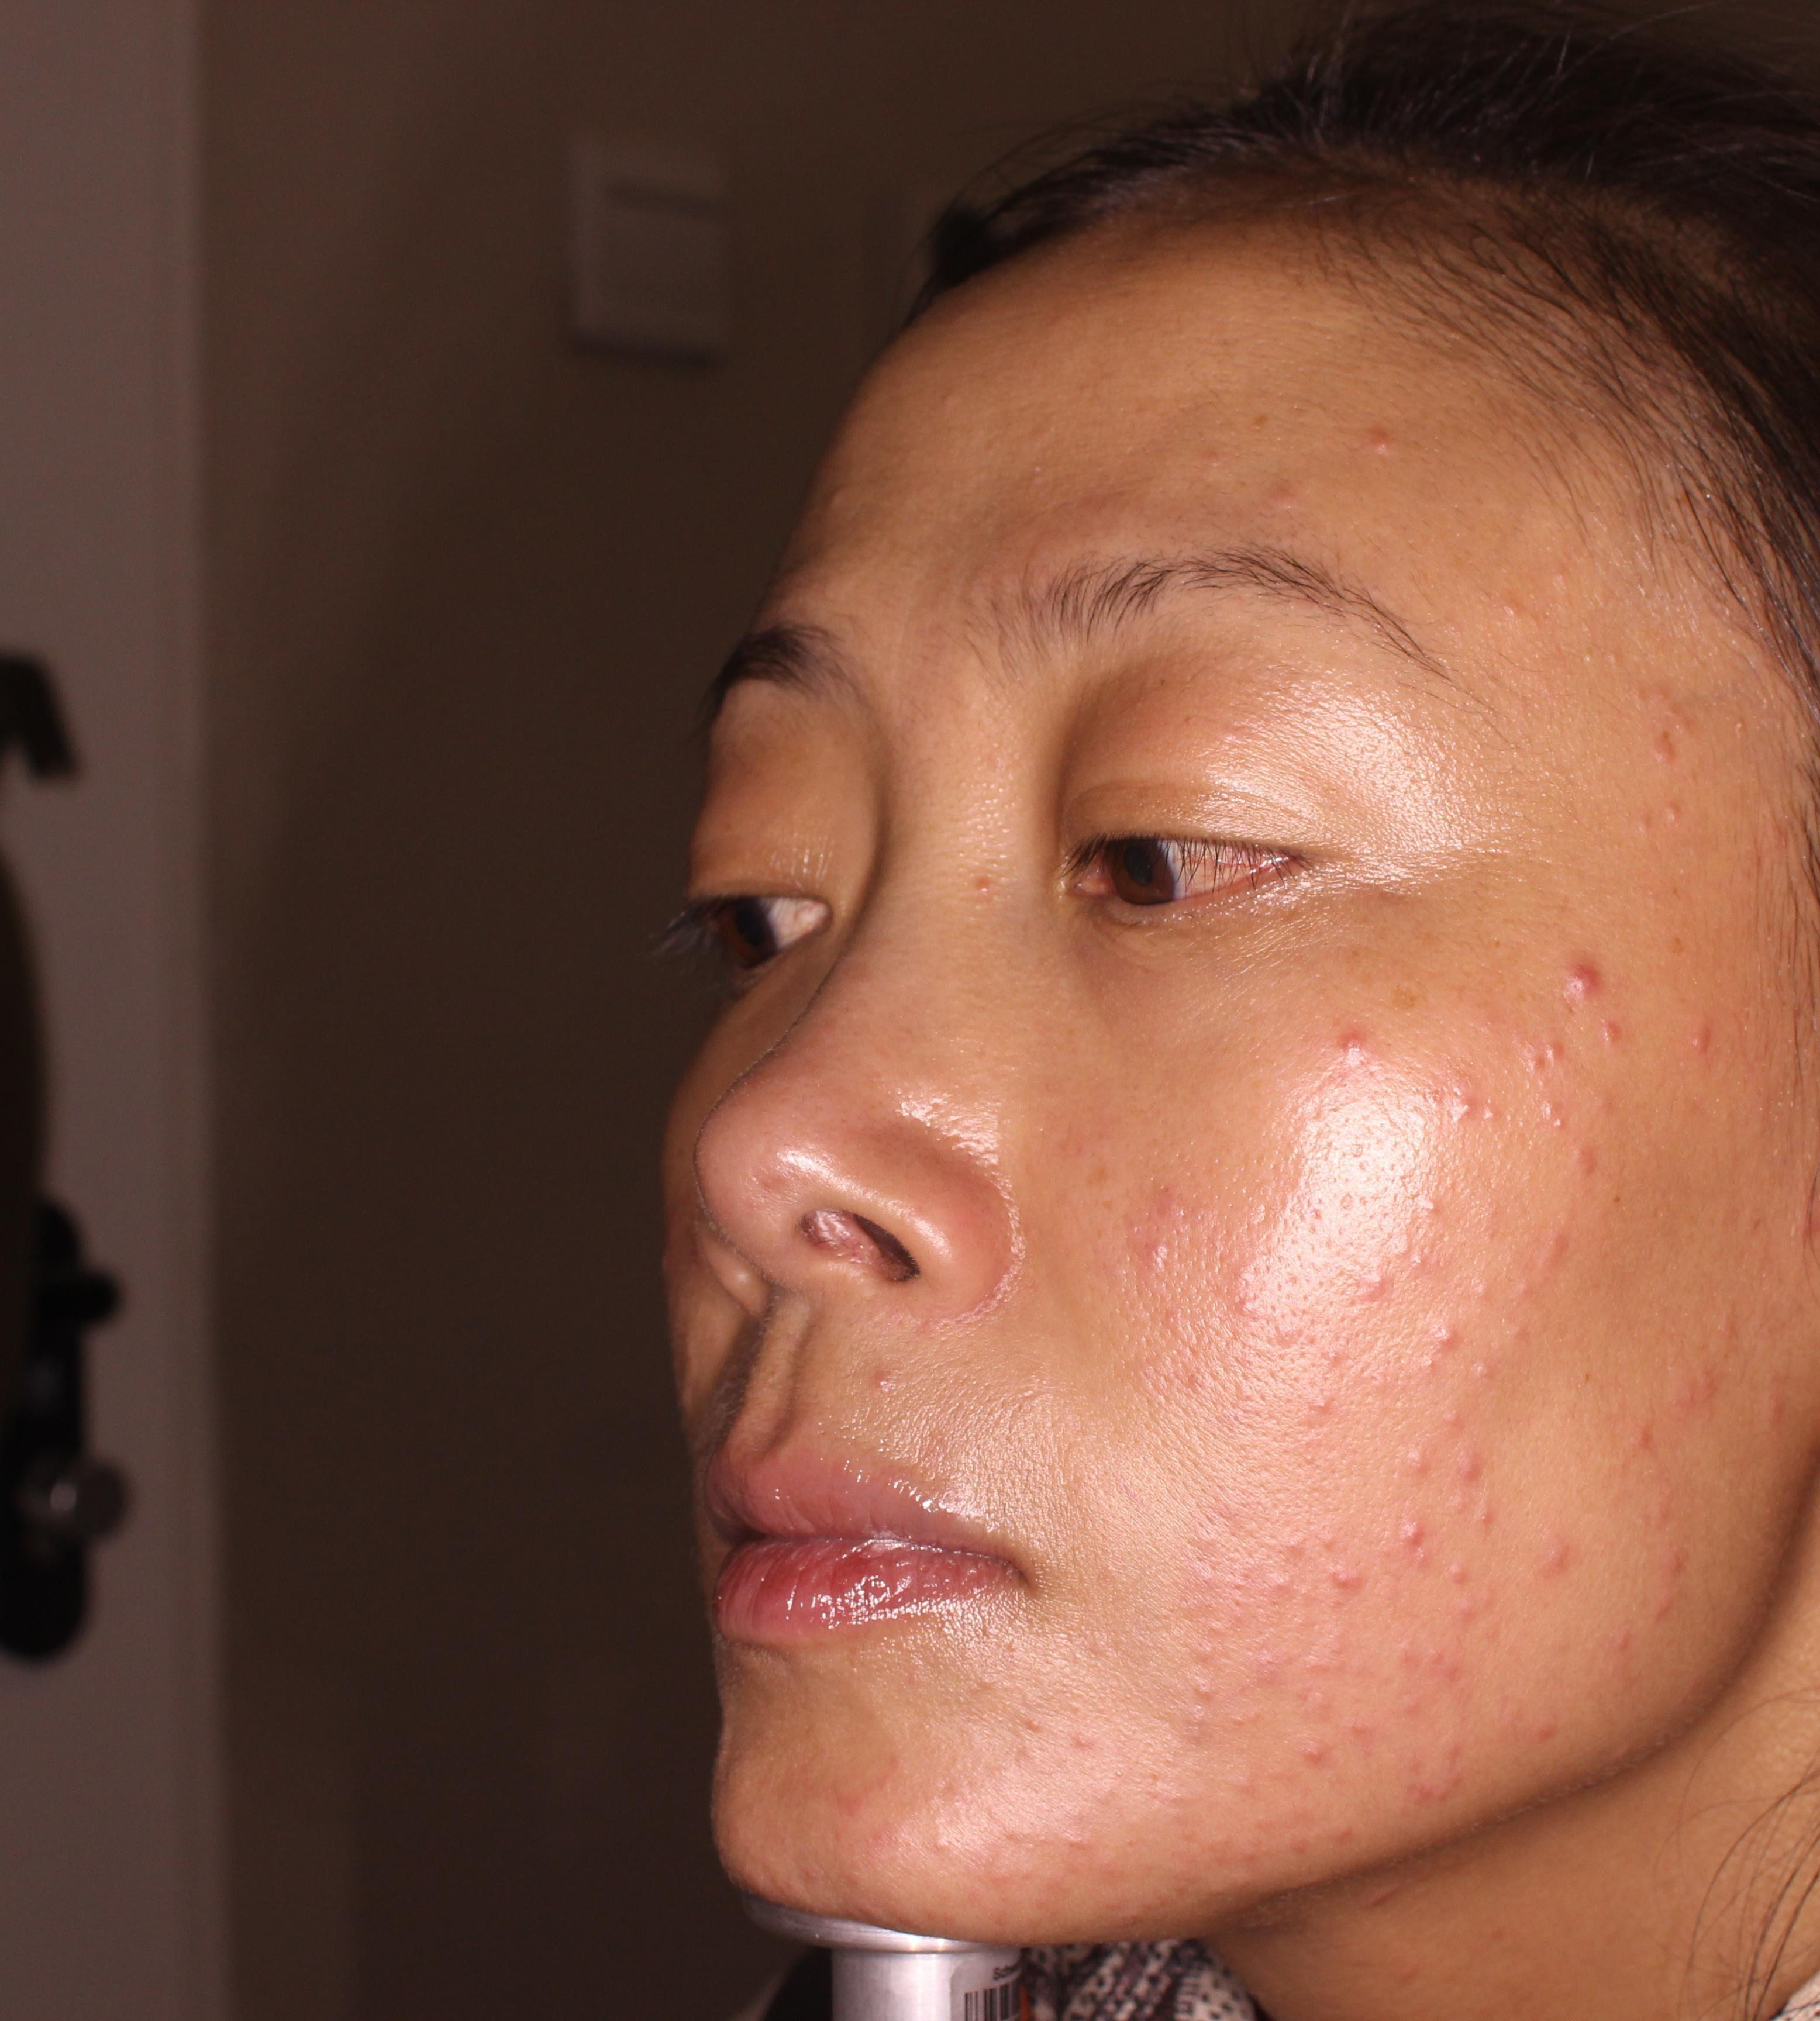fore: (1672, 1338, 1759, 1433), (1395, 1280, 1484, 1366), (1372, 1742, 1484, 1809), (1390, 1626, 1493, 1687), (1672, 1008, 1759, 1078), (1430, 1396, 1502, 1473), (1444, 1055, 1511, 1136), (1314, 1549, 1390, 1617), (1641, 1540, 1699, 1621), (1516, 997, 1579, 1069), (1288, 1701, 1340, 1786), (1641, 720, 1699, 792), (1565, 1124, 1632, 1185), (1444, 1545, 1493, 1626), (1300, 1629, 1369, 1687), (1247, 1517, 1300, 1589), (1534, 936, 1609, 985), (1530, 1522, 1588, 1586), (1377, 1500, 1441, 1554), (1123, 1226, 1179, 1285), (1753, 1375, 1808, 1433), (1138, 1159, 1193, 1213), (1623, 1410, 1667, 1477), (1323, 1011, 1369, 1069), (1588, 997, 1641, 1046)
